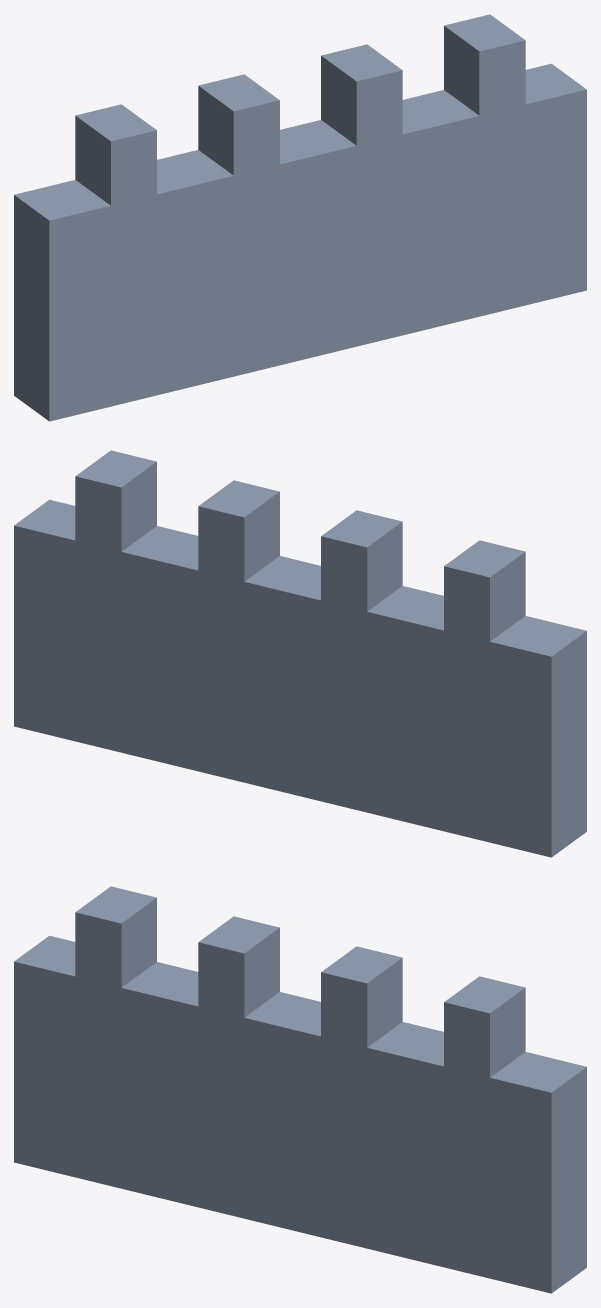
Rendered from walls.glb.
The picture shows the model from 3 angles, top to bottom: view 1: azimuth 30°, elevation 25°; view 2: azimuth 150°, elevation 25°; view 3: azimuth 330°, elevation 25°; orthographic projection.
Visible parts, largest first — view 1: node_0, node_4, node_2, node_3, node_1; view 2: node_0, node_4, node_2, node_3, node_1; view 3: node_0, node_1, node_2, node_3, node_4.
Boxes of the visible parts, bbox=[...] form: node_0: bbox=[14, 63, 586, 421]; node_4: bbox=[444, 14, 525, 115]; node_2: bbox=[198, 74, 279, 175]; node_3: bbox=[321, 44, 402, 145]; node_1: bbox=[75, 104, 156, 205]; node_0: bbox=[14, 499, 586, 857]; node_4: bbox=[75, 450, 156, 551]; node_2: bbox=[321, 510, 402, 611]; node_3: bbox=[198, 480, 279, 581]; node_1: bbox=[444, 540, 525, 641]; node_0: bbox=[14, 935, 586, 1293]; node_1: bbox=[75, 886, 156, 987]; node_2: bbox=[198, 916, 279, 1017]; node_3: bbox=[321, 946, 402, 1047]; node_4: bbox=[444, 976, 525, 1077].
Size of the model in its own units: 0.7 by 0.33 by 0.08.
